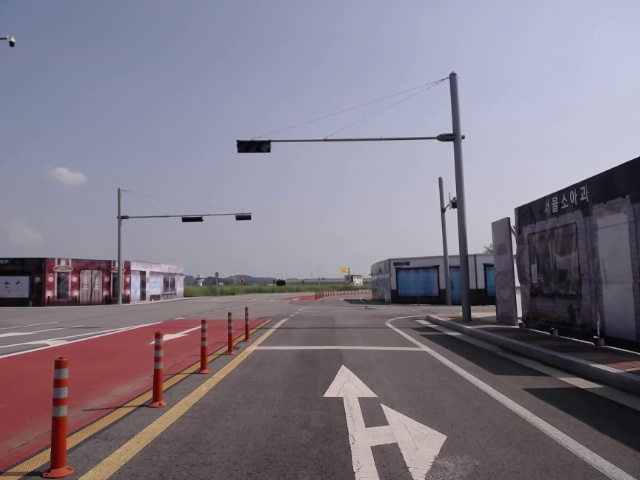green_3: (236, 140, 272, 153)
